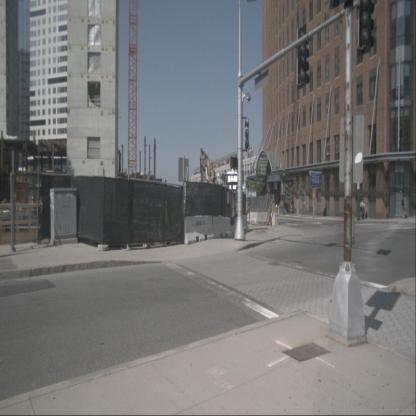barrier: (184, 216, 215, 244), (213, 216, 234, 238), (233, 215, 250, 236), (257, 211, 268, 225), (246, 212, 258, 224), (269, 213, 279, 227)
